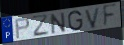F: (102, 3, 118, 30)
G: (67, 10, 84, 32)
N: (49, 11, 67, 36)
P: (14, 17, 31, 40)
V: (84, 6, 102, 30)
Z: (31, 13, 50, 38)
